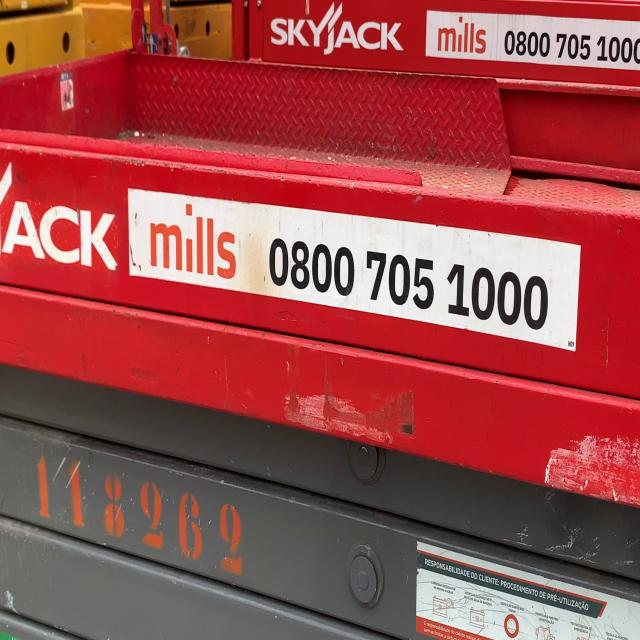Adesivo Longo: (125, 183, 584, 355)
